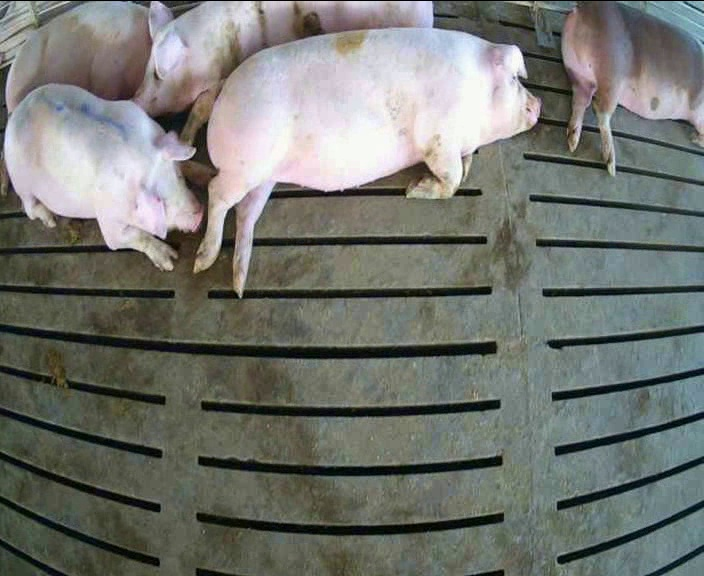pig: (194, 28, 540, 296), (133, 1, 432, 141), (4, 84, 216, 269), (562, 2, 703, 175), (6, 2, 151, 112)
